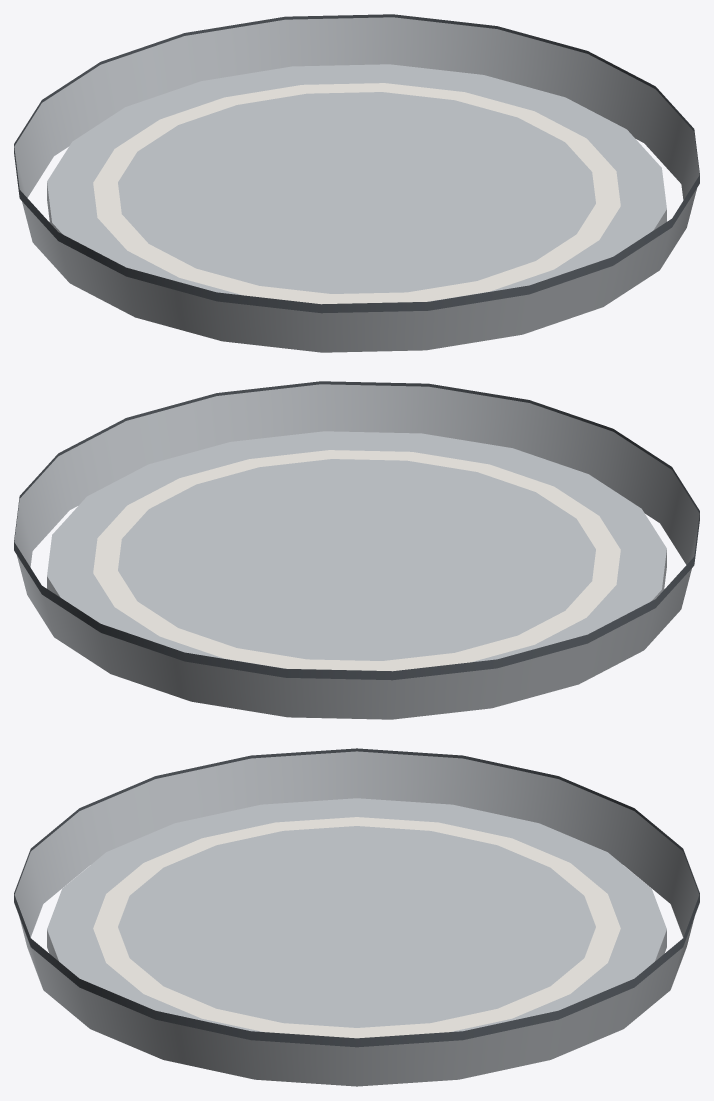
The model's file is tray.glb.
3 views of the same model, one above another, from view 1: azimuth 30°, elevation 25°; view 2: azimuth 150°, elevation 25°; view 3: azimuth 270°, elevation 25° (orthographic).
Visible parts, largest first — view 1: tray; view 2: tray; view 3: tray.
Part boxes in pixels (x1,y1,x2,y2): tray: (14,14,699,352); tray: (14,381,699,719); tray: (14,748,699,1086).
Bounding box in the file's own units: 0.416 × 0.036 × 0.416.
Materials: 1 (1 with a texture image).
